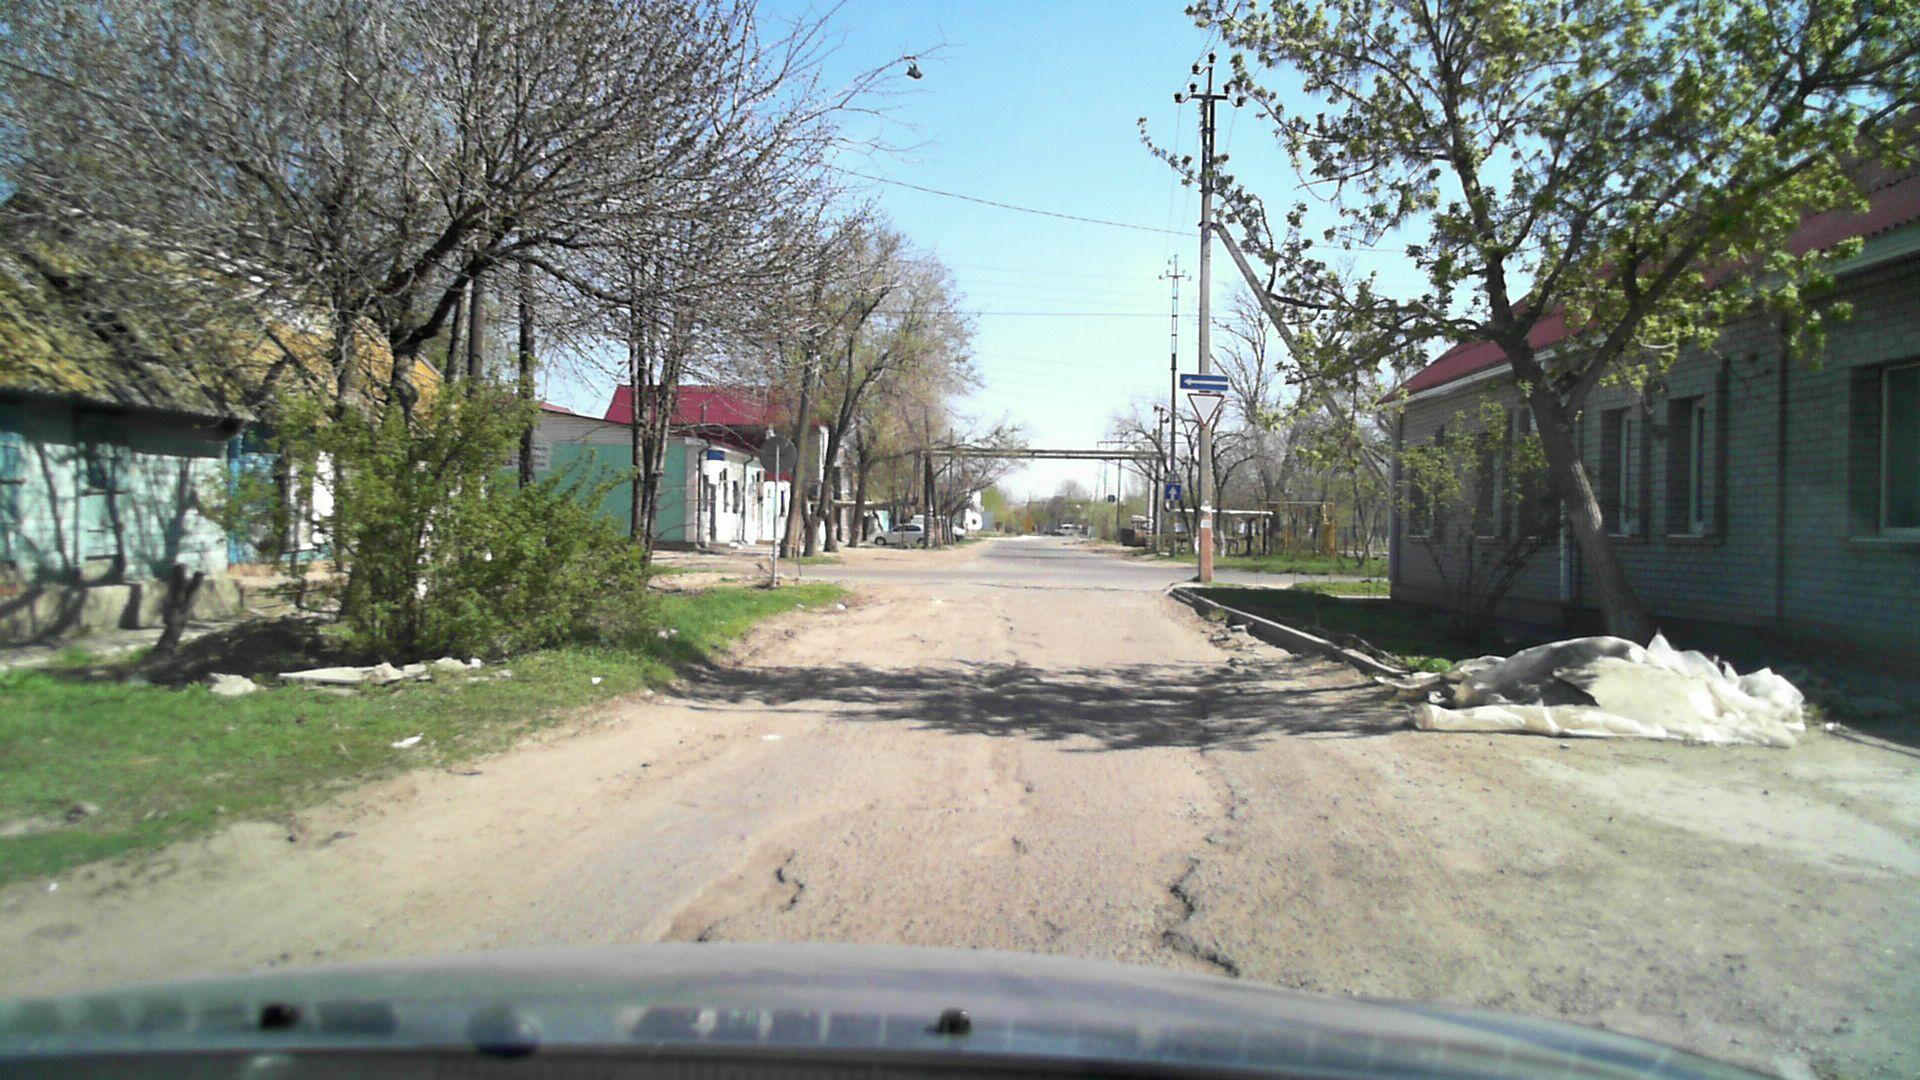1_21: (1160, 465, 1185, 483)
2_4: (1185, 393, 1224, 426)
5_5: (1163, 485, 1182, 500)
5_6: (1105, 492, 1117, 502)
5_7_2: (1178, 372, 1232, 392)
